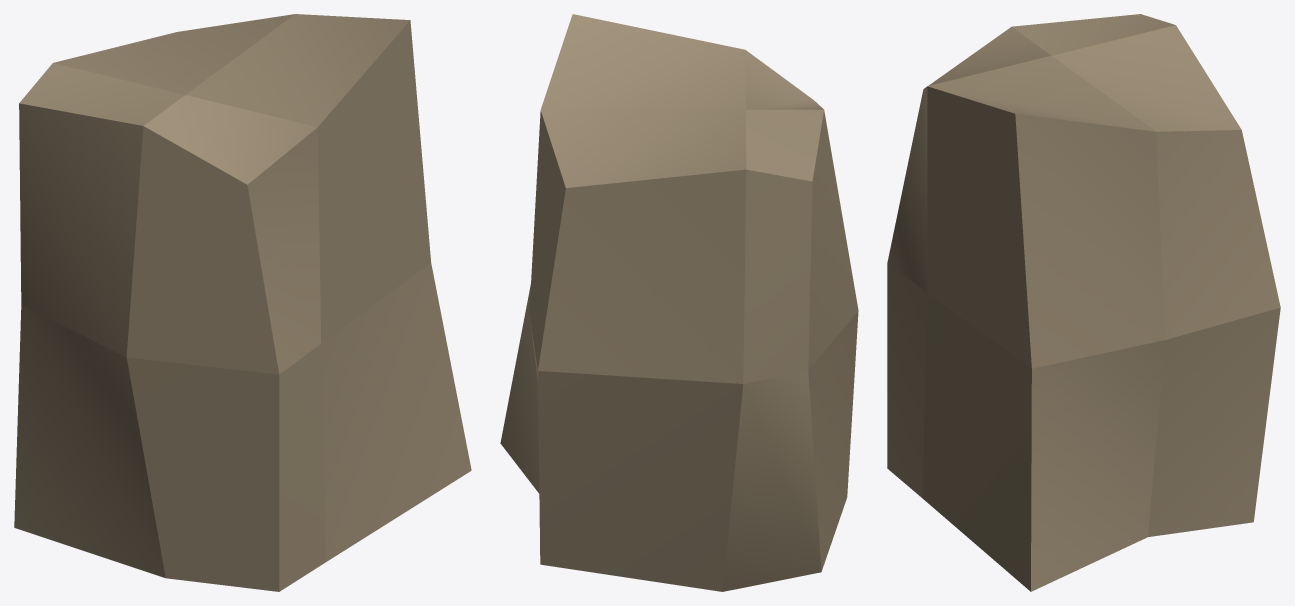
The model's file is rock_tall_lrg_p_02.fbx.
3 renders of one model, left to right at view 1: azimuth 30°, elevation 25°; view 2: azimuth 150°, elevation 25°; view 3: azimuth 270°, elevation 25°, orthographic. The views are drawn at different scales.
Parts seen in each view (by area): view 1: rock_tall_lrg_p_02; view 2: rock_tall_lrg_p_02; view 3: rock_tall_lrg_p_02.
Part boxes in pixels (<box>): rock_tall_lrg_p_02: <box>14,14,471,591</box>; rock_tall_lrg_p_02: <box>500,14,858,591</box>; rock_tall_lrg_p_02: <box>887,14,1280,591</box>.
Bounding box in the file's own units: 60.47 × 72.57 × 54.44.
